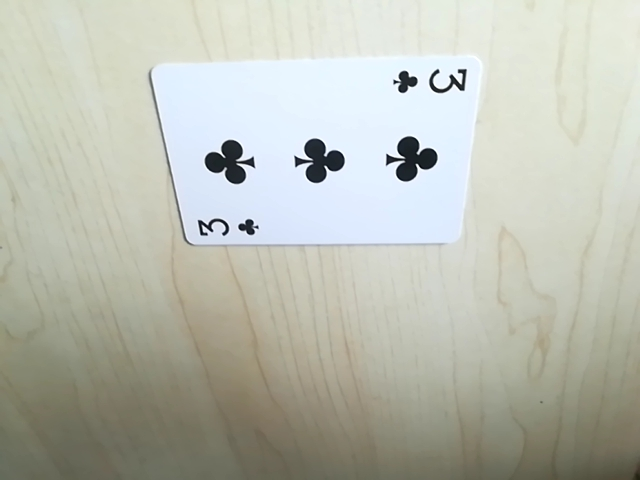mh 3: (391, 60, 467, 99), (188, 213, 260, 245)
